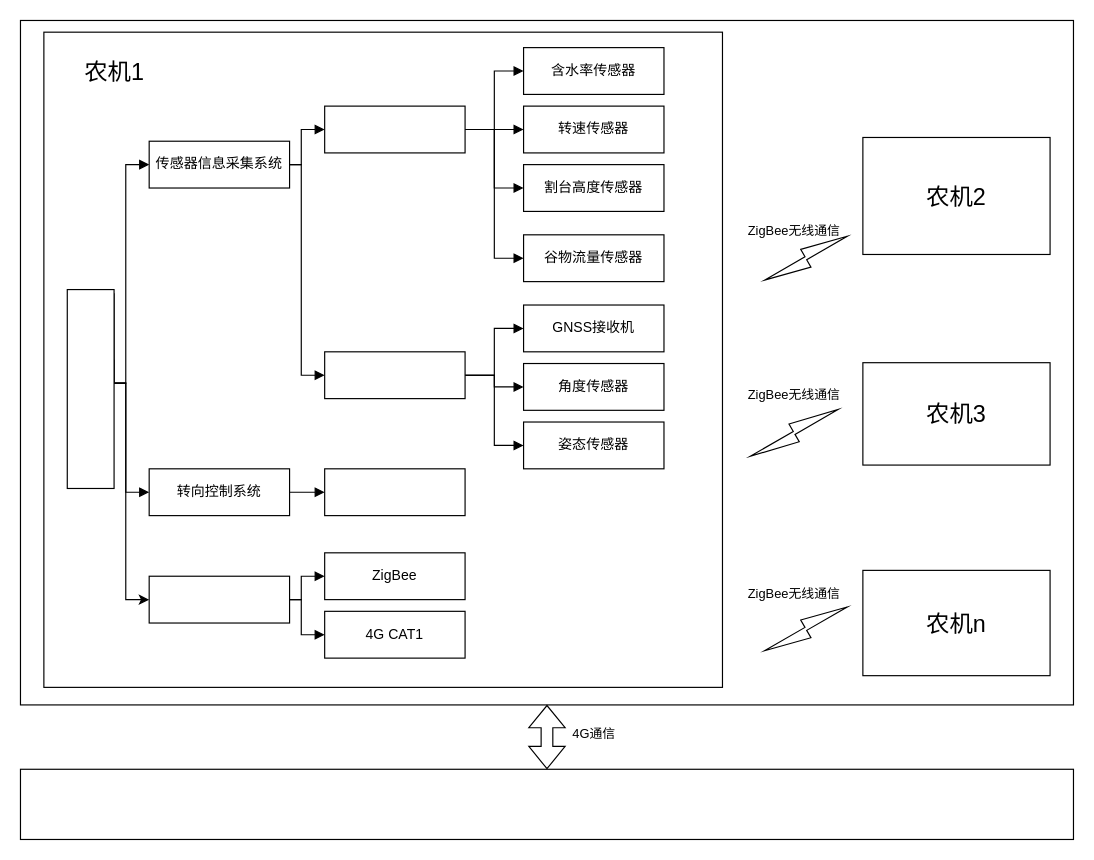
The diagram is 1094 pixels wide and 860 high, and some of its shapes have lost their labels. Each missing label, with the centre of its shape:
产量数据传感器: point (394, 129)
农机控制模型: point (394, 492)
导肮数据传感器: point (394, 375)
车载终端: point (90, 388)
远程服务器端: point (546, 803)
通信系统: point (219, 599)
